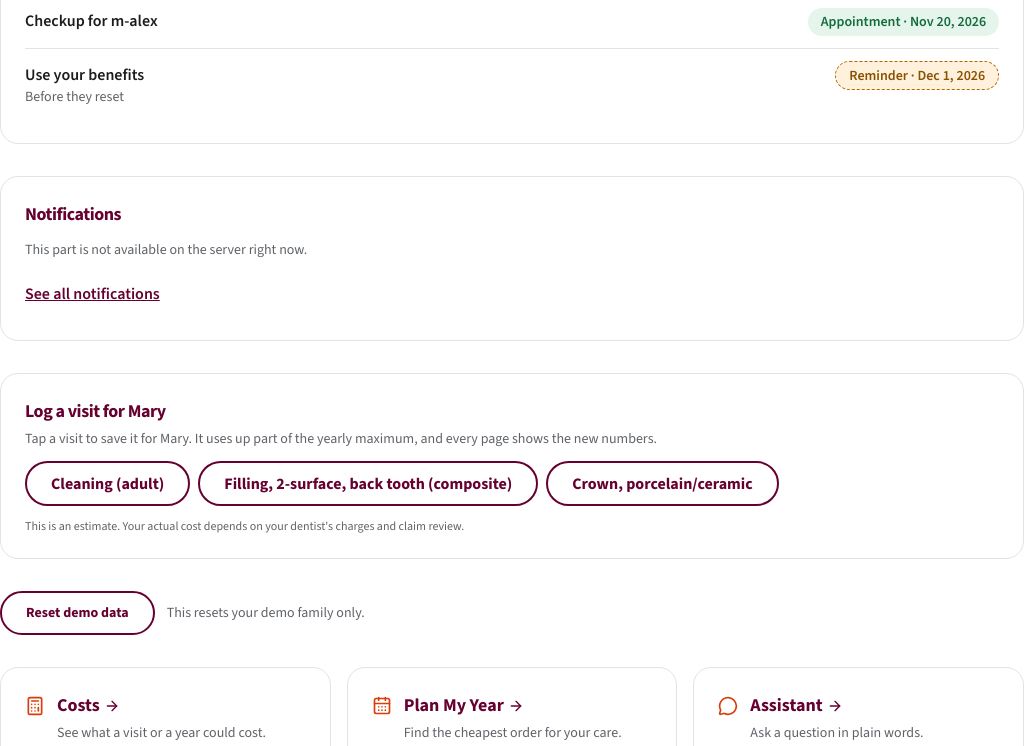
Test: Home page › lets the primary reset demo data after a confirm, and hides the button from others
(page scrolled)
Expected: the text "This resets your demo family only." is shown, [167, 603, 365, 623]
Click the button "Reset demo data" at (77, 613), box [0, 591, 155, 635]
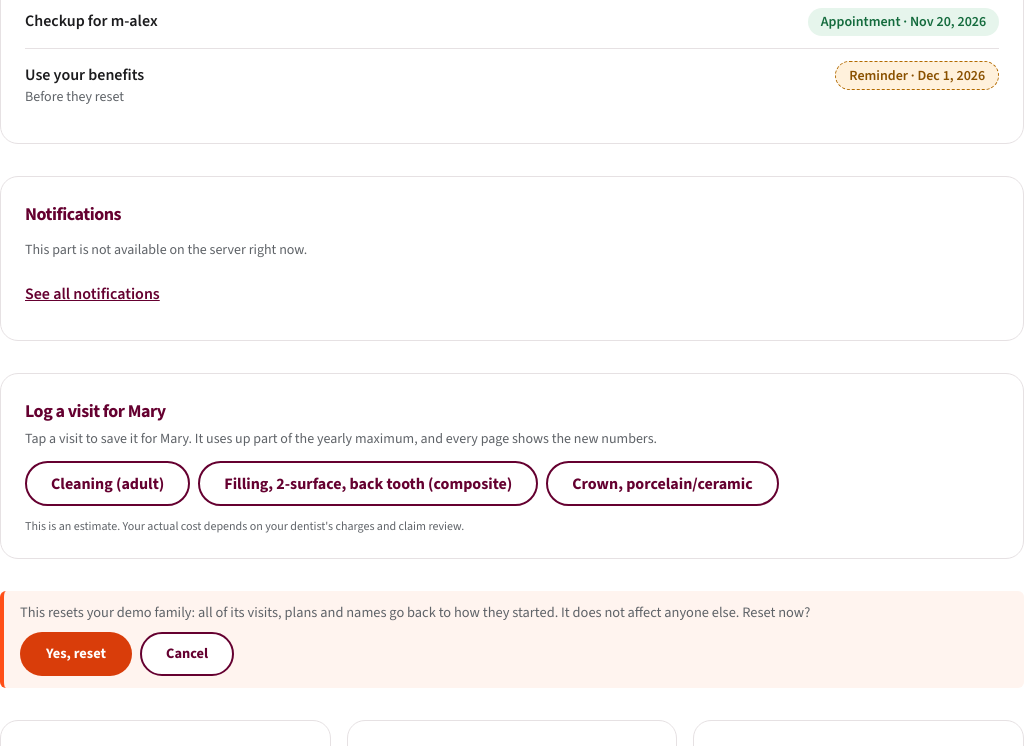
Expected: the text "This resets your demo family" is shown, [20, 603, 810, 622]
Click the button "Yes, reset" at (76, 654), box [20, 632, 132, 676]
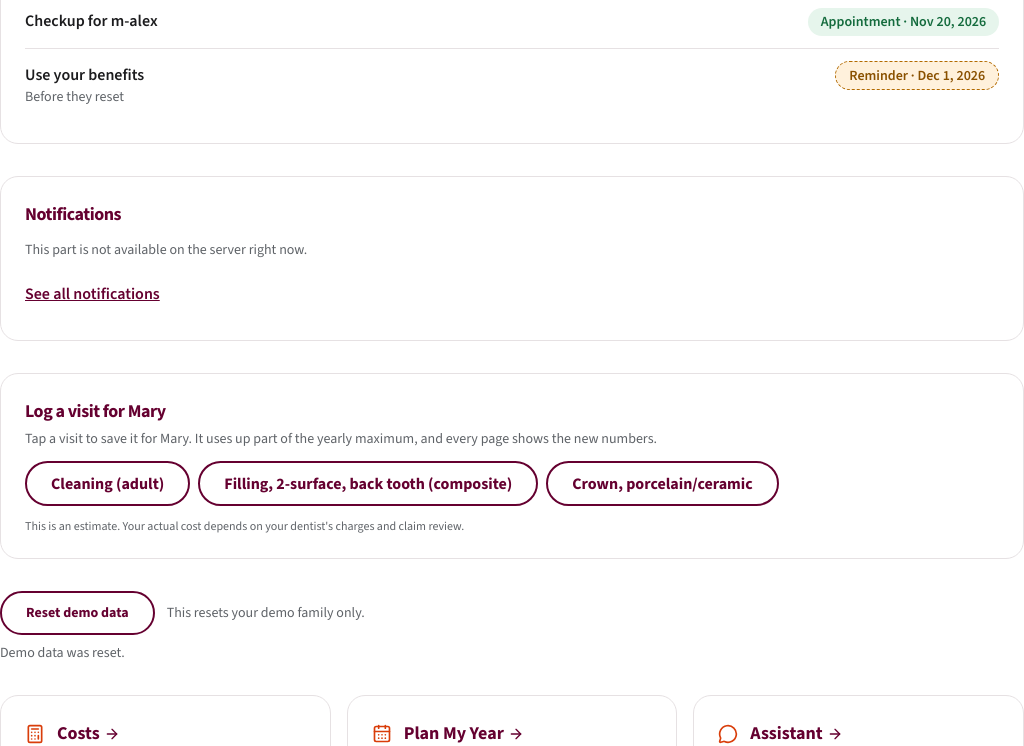
Expected: the text "Demo data was reset." is shown, [0, 643, 125, 662]
